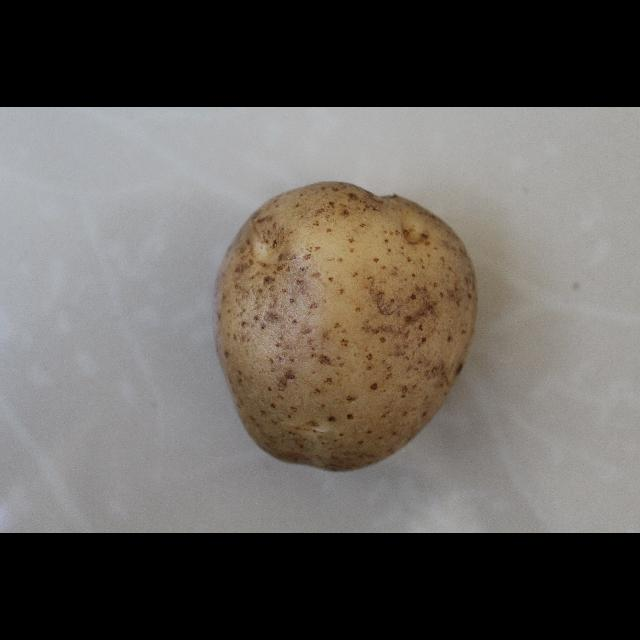Diseased-fungal potato: (216, 178, 482, 474)
